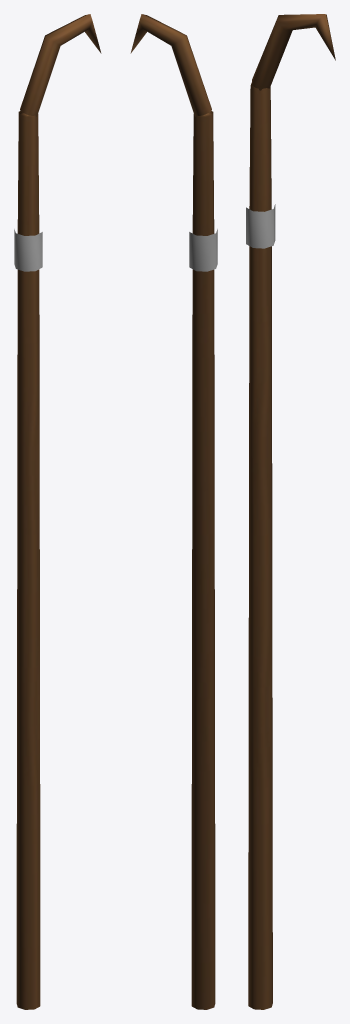
The model's file is baton-pretre.glb.
3 renders of one model, left to right at view 1: azimuth 30°, elevation 25°; view 2: azimuth 150°, elevation 25°; view 3: azimuth 330°, elevation 25°, orthographic. The views are drawn at different scales.
Parts seen in each view (by area): view 1: baton-pretre; view 2: baton-pretre; view 3: baton-pretre.
Part boxes in pixels (x1=…): baton-pretre: x1=14, y1=14, x2=101, y2=1009; baton-pretre: x1=130, y1=14, x2=217, y2=1009; baton-pretre: x1=246, y1=14, x2=335, y2=1009.
Bounding box in the file's own units: 0.176 × 1.91 × 0.052.
Materials: 1 (1 with a texture image).
